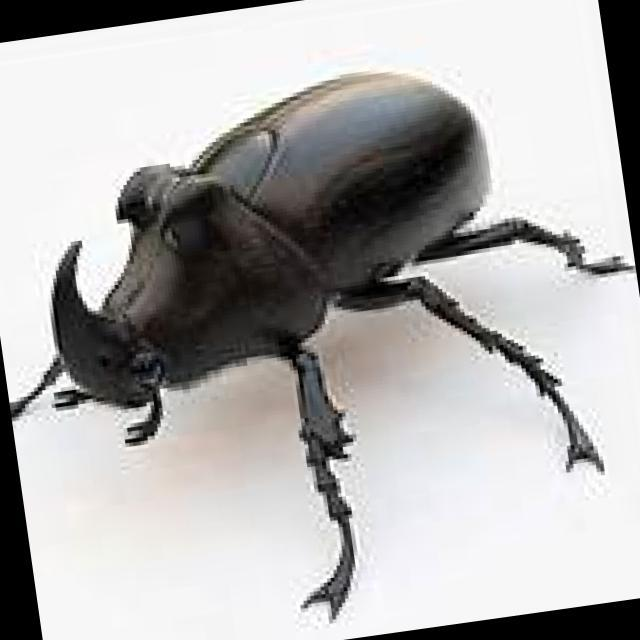Rhino-beetle: (22, 67, 617, 477)
